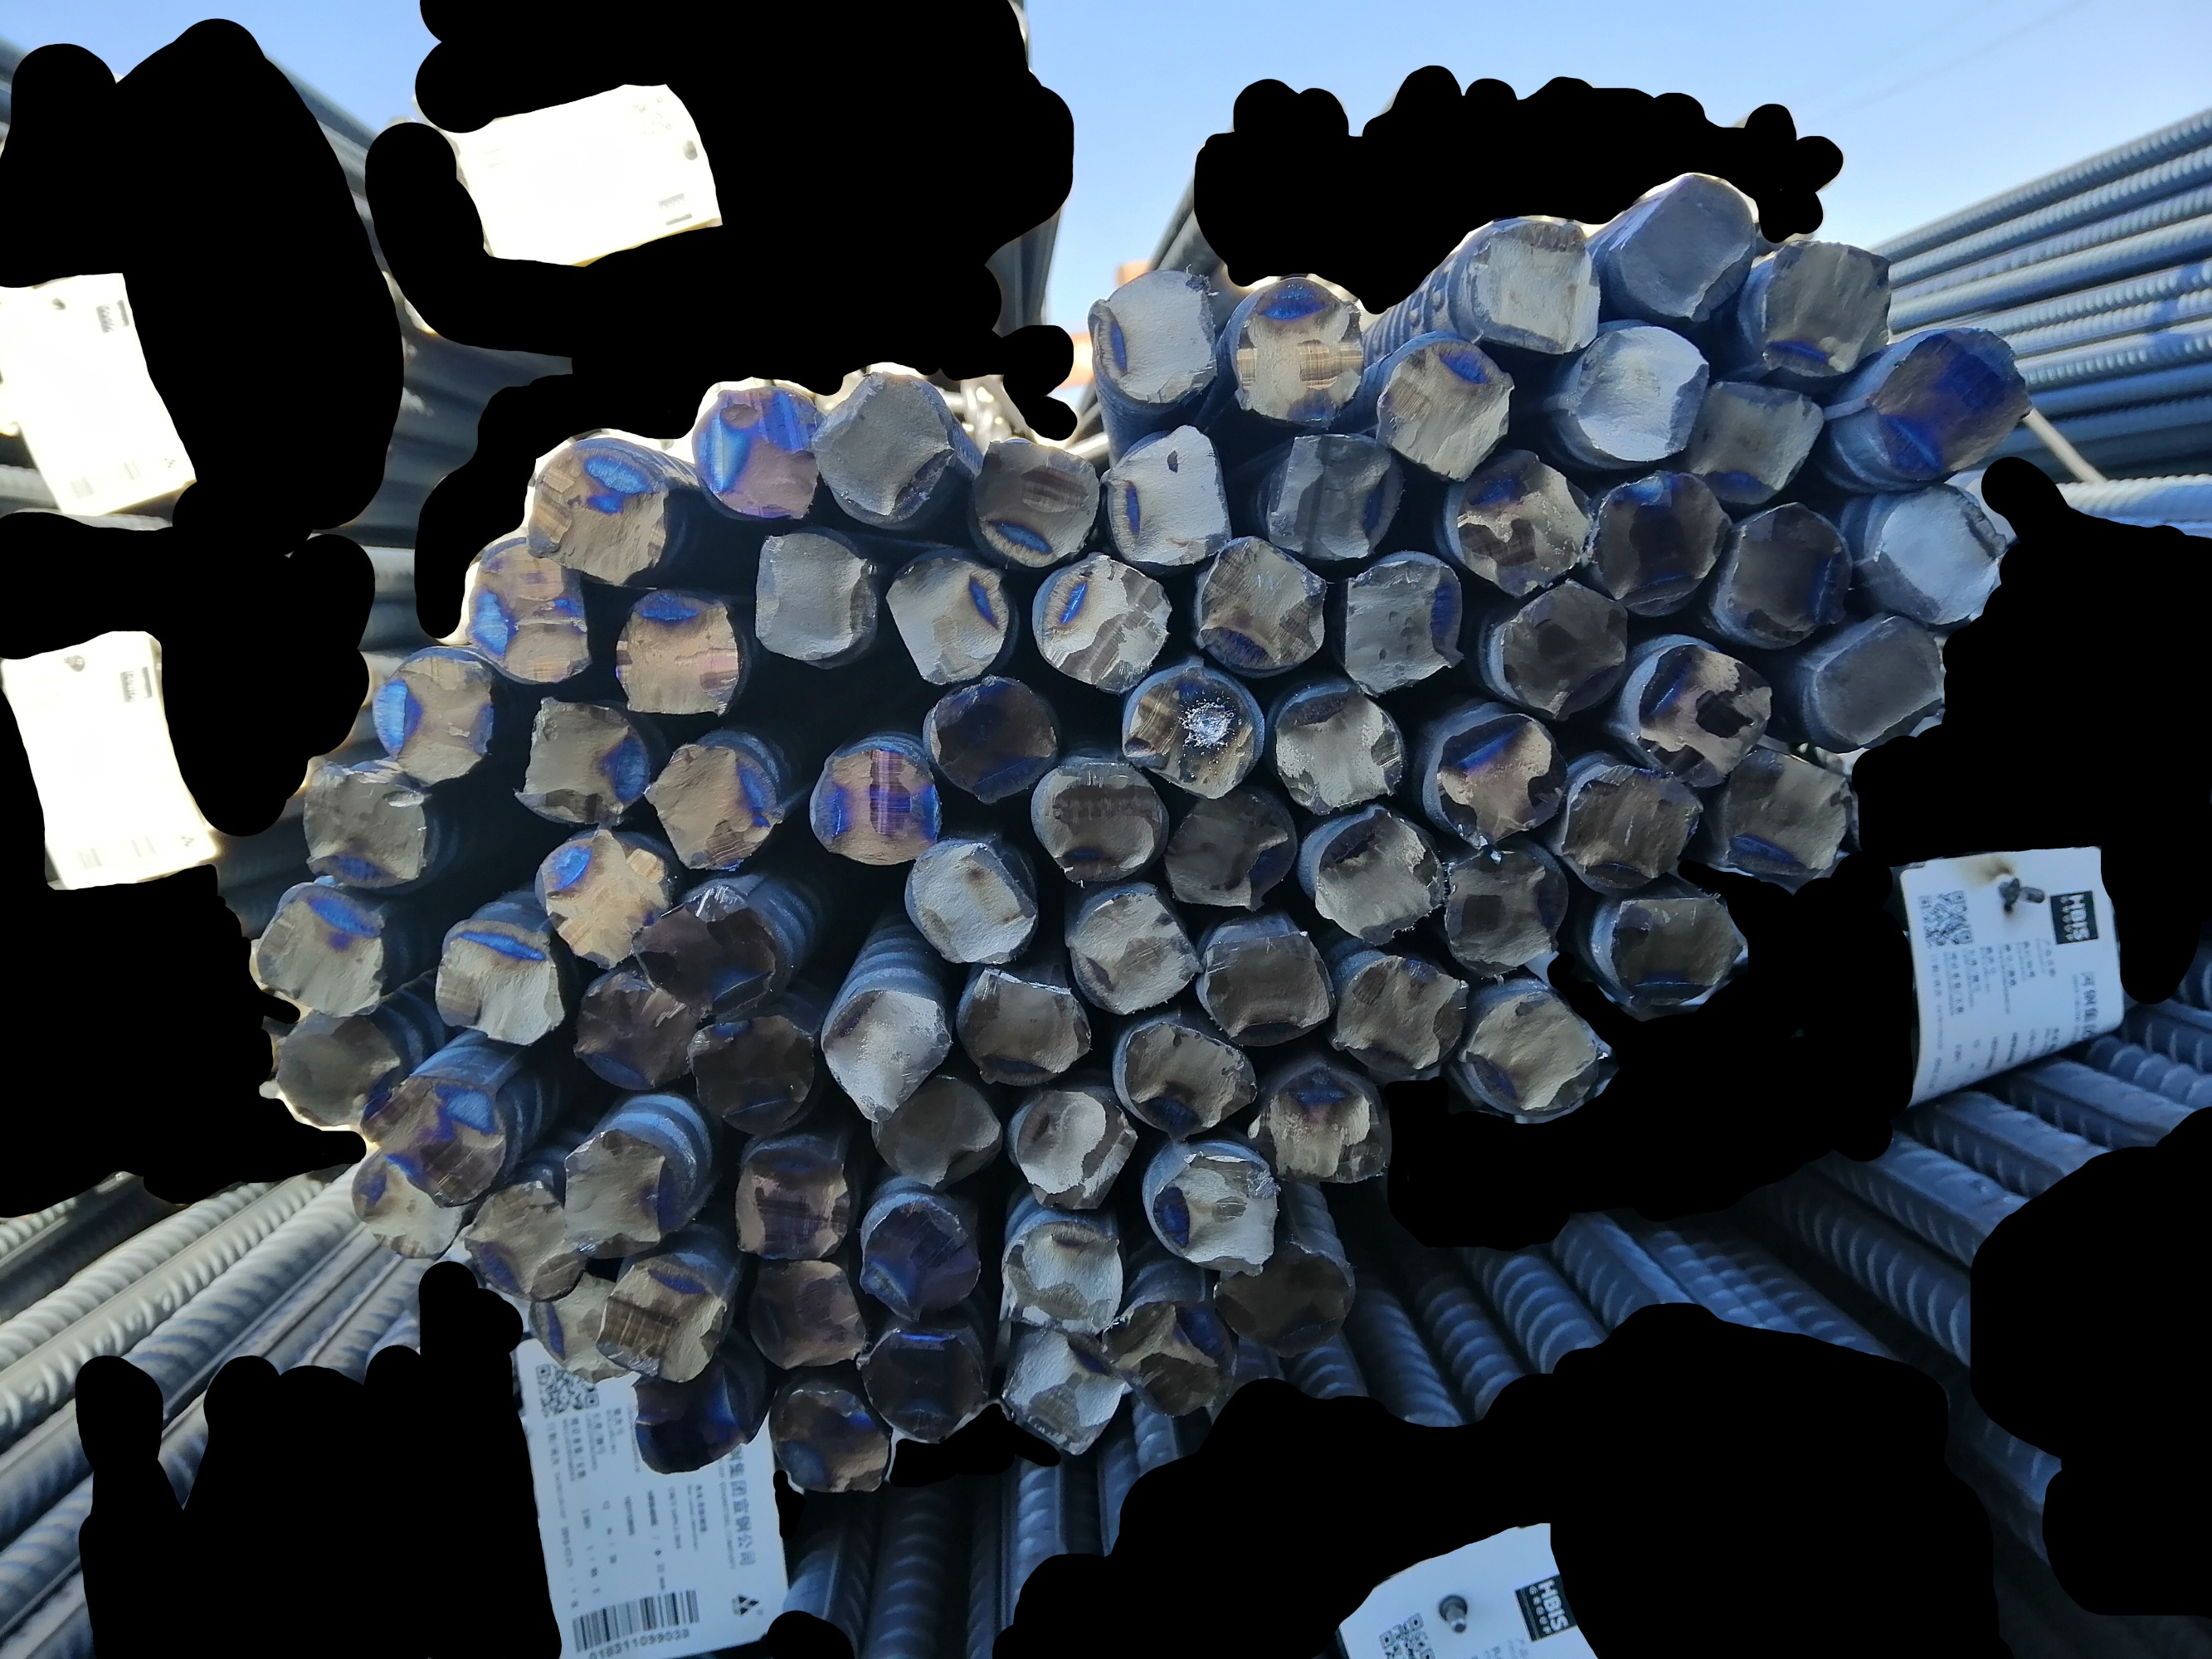rebar: (1867, 328, 2029, 483), (1450, 444, 1600, 599), (1560, 319, 1712, 471), (1023, 542, 1166, 701), (1588, 467, 1734, 620), (628, 882, 786, 1023), (1616, 171, 1762, 321), (1867, 479, 2012, 631), (1759, 228, 1902, 382), (1633, 638, 1771, 791), (643, 728, 784, 875), (1379, 335, 1517, 484), (1206, 1236, 1365, 1364), (1811, 605, 1951, 751), (462, 538, 600, 687), (1105, 427, 1245, 572), (526, 446, 671, 586), (1722, 495, 1853, 648), (1309, 802, 1445, 948), (1340, 540, 1466, 697), (535, 824, 673, 967), (1234, 275, 1367, 423), (884, 549, 1020, 692), (812, 380, 948, 523), (1564, 755, 1700, 897), (363, 1079, 511, 1209), (1497, 577, 1633, 718), (1091, 261, 1222, 408), (1712, 742, 1849, 880), (1121, 664, 1260, 800), (1440, 836, 1571, 981), (1454, 986, 1602, 1114), (901, 836, 1039, 972), (1428, 714, 1564, 852), (1271, 687, 1410, 821), (1159, 782, 1299, 917), (607, 587, 746, 721), (1466, 223, 1607, 356), (1095, 1290, 1231, 1425), (924, 674, 1060, 810), (1194, 535, 1328, 673), (1333, 953, 1473, 1086), (680, 1011, 824, 1138), (950, 964, 1096, 1089), (995, 1324, 1130, 1460), (816, 988, 952, 1122), (1691, 368, 1830, 498), (1032, 756, 1171, 884), (751, 526, 879, 666), (1065, 885, 1198, 1018), (371, 648, 499, 786), (253, 884, 385, 1014), (302, 760, 432, 890), (1271, 432, 1400, 565), (1604, 882, 1740, 1007), (596, 1255, 725, 1385), (434, 920, 567, 1047), (811, 739, 943, 866), (690, 394, 824, 519), (978, 434, 1100, 572), (528, 690, 648, 829), (858, 1328, 992, 1452), (729, 1138, 856, 1265), (1262, 1060, 1391, 1185), (1123, 1019, 1255, 1140), (865, 1073, 999, 1192), (1206, 925, 1333, 1047), (858, 1195, 978, 1324), (579, 969, 702, 1093), (1016, 1089, 1138, 1215), (465, 1178, 591, 1300), (345, 1138, 465, 1265), (560, 1129, 680, 1255), (748, 1251, 870, 1371), (1156, 1157, 1279, 1274), (769, 1382, 894, 1497), (1002, 1220, 1128, 1335), (275, 1014, 399, 1129), (525, 1267, 641, 1387), (628, 1364, 753, 1474)
